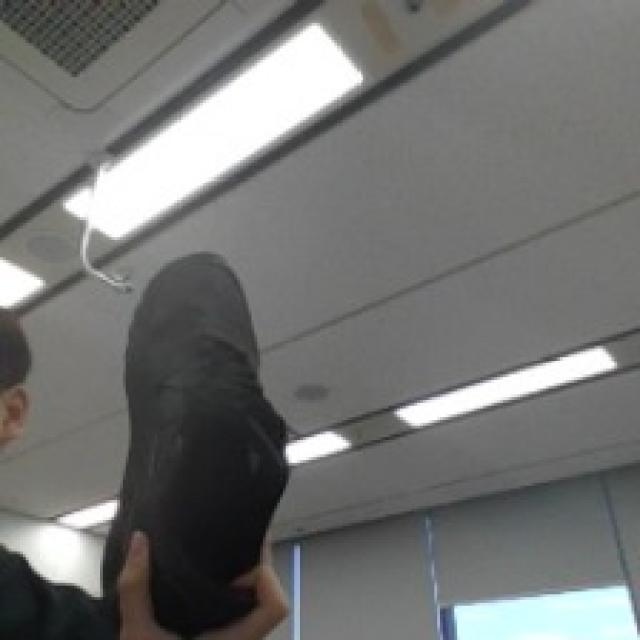shoe: (93, 248, 288, 639)
